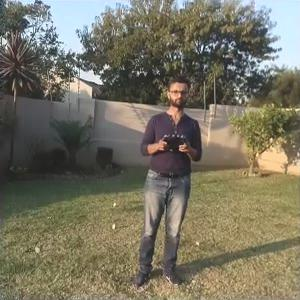follow: (128, 70, 204, 296)
